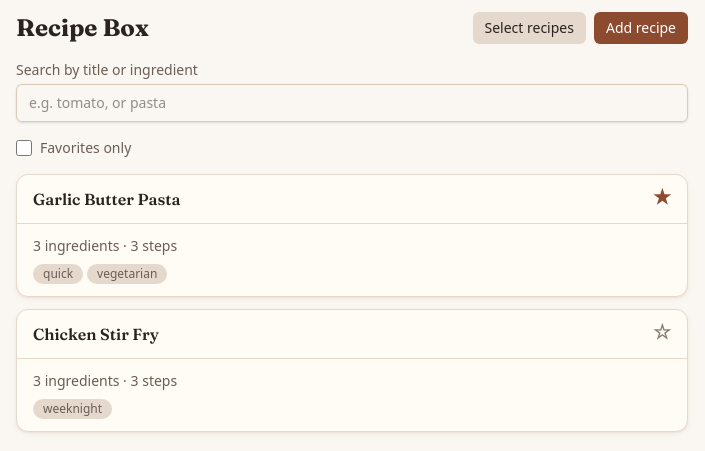
Test: RecipeBox (against the typed mock, per TEST-155 AC5) › filters by title, case-insensitively (AC2)
The width and height of the screenshot is (705, 451).
Expected: the text "Garlic Butter Pasta" is shown, 33,187 -> 180,211
Type "GARLIC" into the field labelled "Search by title or ingredient" at (352, 103), box 16,84 -> 688,122
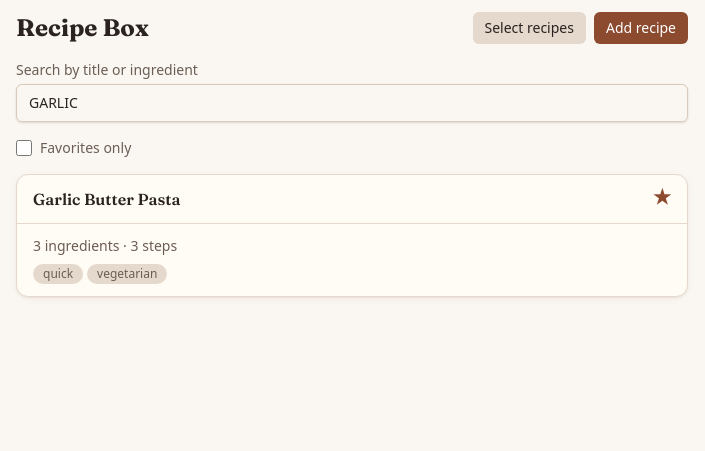
Expected: the text "Garlic Butter Pasta" is shown, 33,187 -> 180,211
Expected: the link "Chicken Stir Fry" is gone
